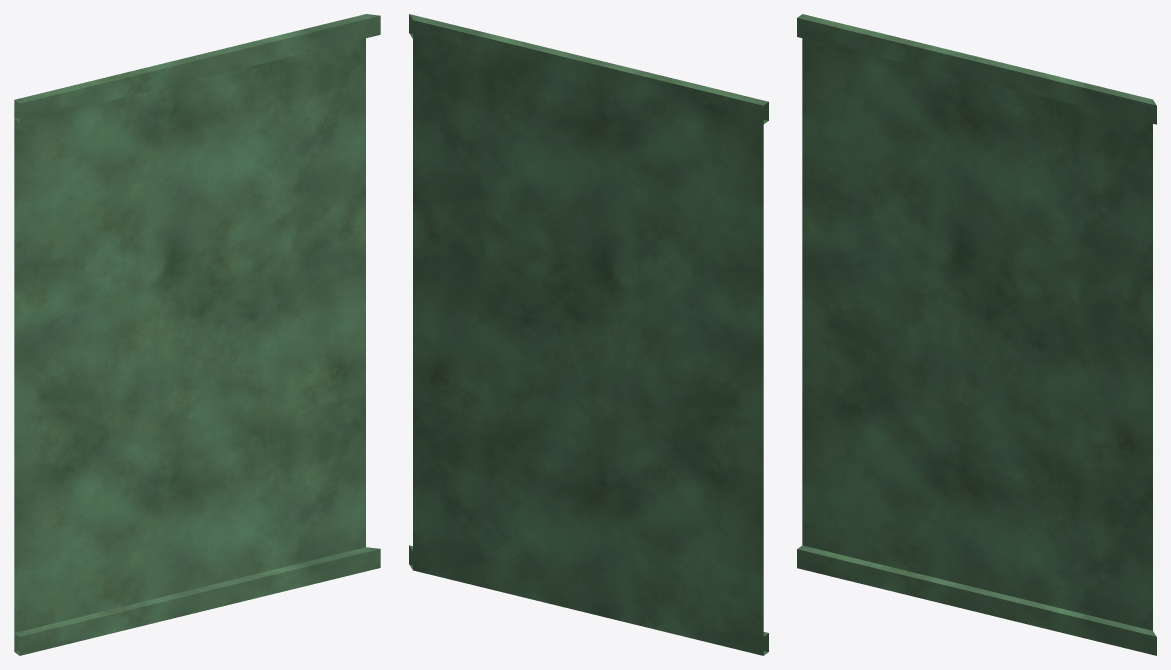
Rendered from Wall_LowerDeck_Blank_Corner1.FBX.
3 views of the same model, side by side, from view 1: azimuth 30°, elevation 25°; view 2: azimuth 150°, elevation 25°; view 3: azimuth 330°, elevation 25° (orthographic).
Parts seen in each view (by area): view 1: Plane024; view 2: Plane024; view 3: Plane024.
Part boxes in pixels (left/top/right/bottom): Plane024: left=14, top=14, right=380, bottom=655; Plane024: left=409, top=14, right=768, bottom=655; Plane024: left=797, top=14, right=1156, bottom=655.
Size of the model in its own units: 205 by 300 by 5.25.
